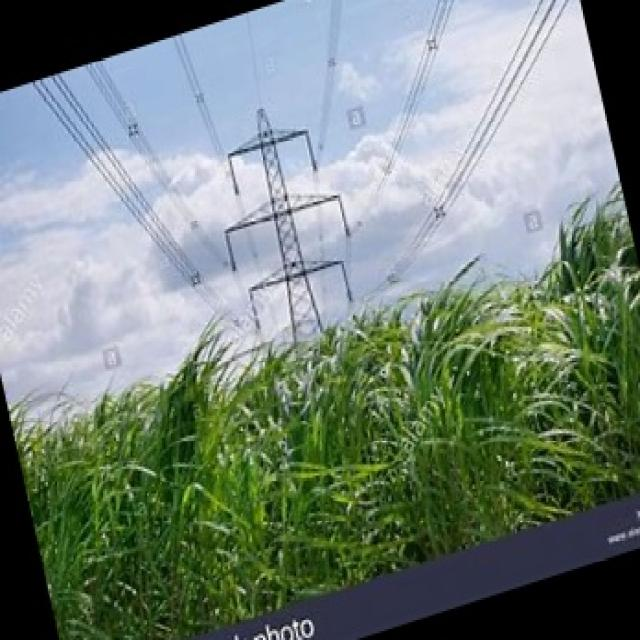utility poles: (216, 93, 375, 562)
